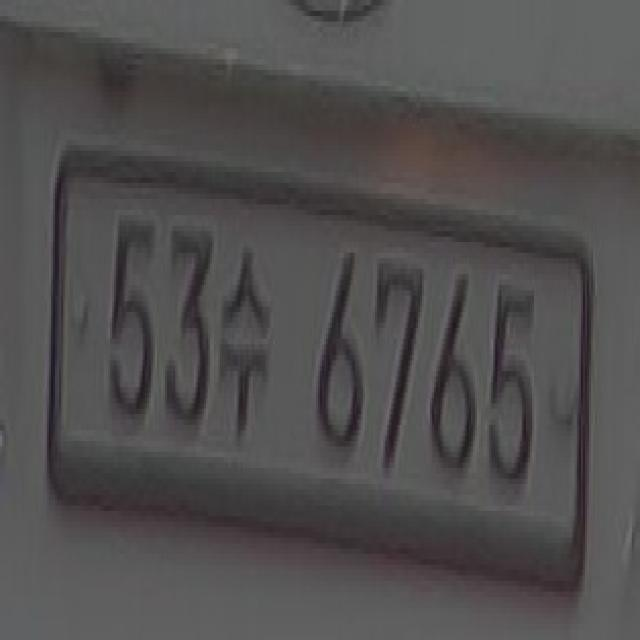3: (157, 199, 216, 436)
5: (487, 280, 546, 500), (104, 182, 155, 436)
6: (430, 258, 481, 522), (316, 215, 363, 479)
7: (371, 242, 426, 500)
license_plate: (37, 135, 601, 613)
su: (220, 226, 275, 446)
